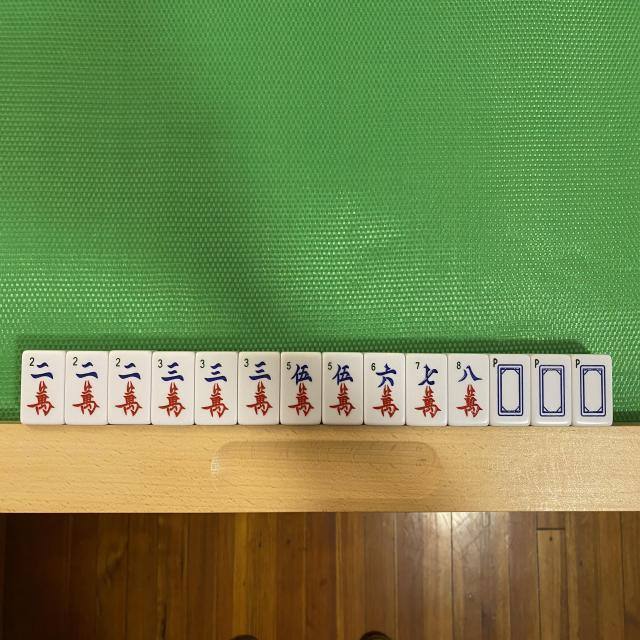hdw: (574, 356, 611, 424), (492, 356, 528, 424), (533, 357, 569, 424)
sc2: (67, 354, 105, 422), (24, 353, 62, 421), (110, 355, 148, 422)
sc3: (196, 354, 234, 422), (154, 355, 192, 422), (240, 356, 278, 422)
sc5: (324, 357, 362, 422), (282, 356, 318, 420)
sc6: (366, 356, 402, 422)
sc7: (407, 358, 444, 422)
sc8: (450, 356, 486, 422)
